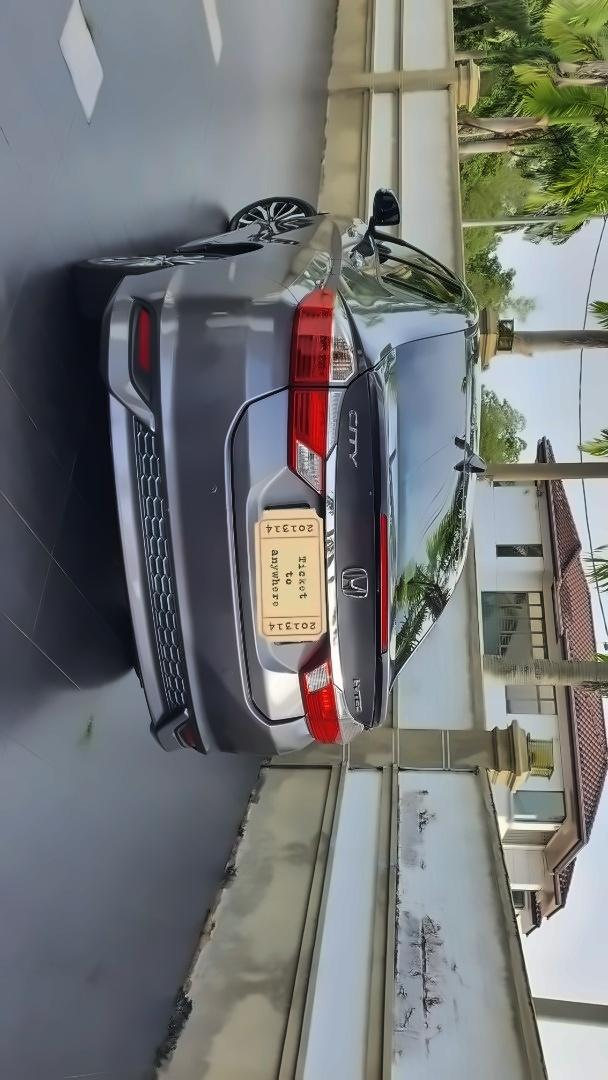Car boot: (226, 345, 388, 732)
Rear bumper: (93, 259, 287, 761)
Rear light - -L-: (280, 280, 362, 501)
Rear light - -R-: (291, 625, 350, 751)
Side mirror - -L-: (361, 181, 416, 246)
